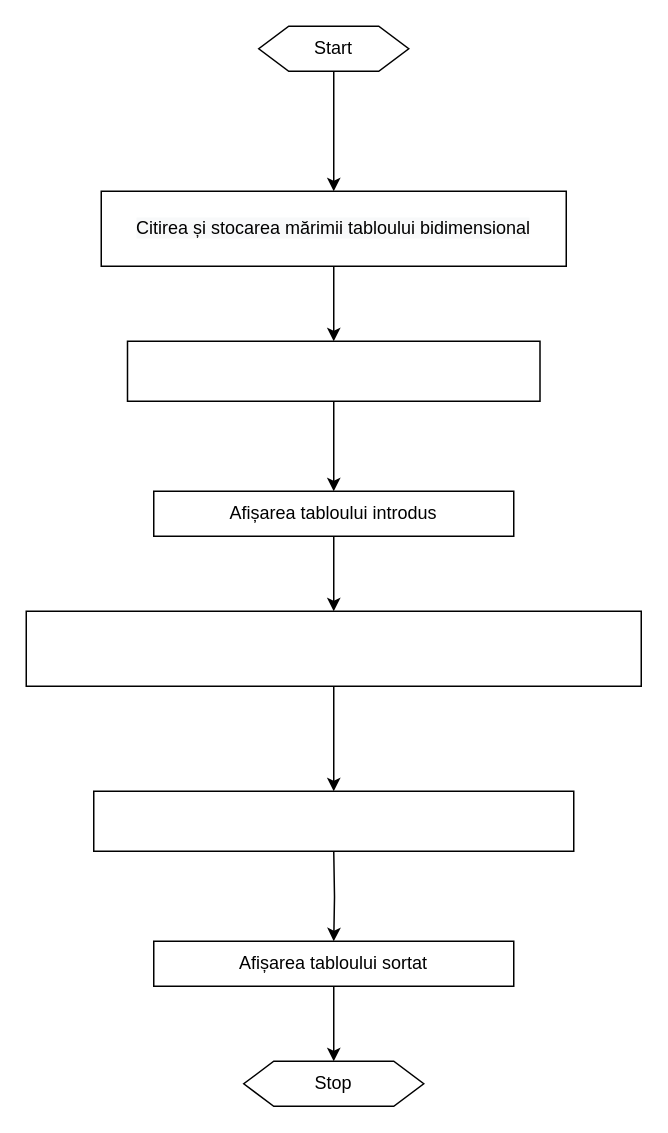
Some shapes in this 668 by 1133 pixel diagram are drawn without their labels. Each missing label, with the box of its shape:
Calcularea numărului de elemente pozitive în fiecare subtablou: (25, 610, 641, 686)
Introducerea elementelor tabloului: (126, 340, 540, 401)
Sortarea în ordine ascendentă prin metoda Bubble Sorting: (92, 790, 574, 851)
